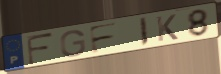8: (186, 8, 212, 38)
F: (88, 20, 120, 55), (25, 32, 55, 67)
G: (59, 29, 87, 58)
I: (138, 16, 150, 48)
K: (155, 13, 180, 43)
